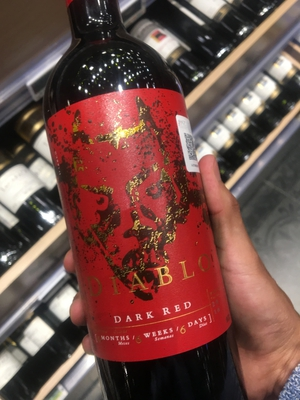diablo dark red: (24, 16, 219, 400)
